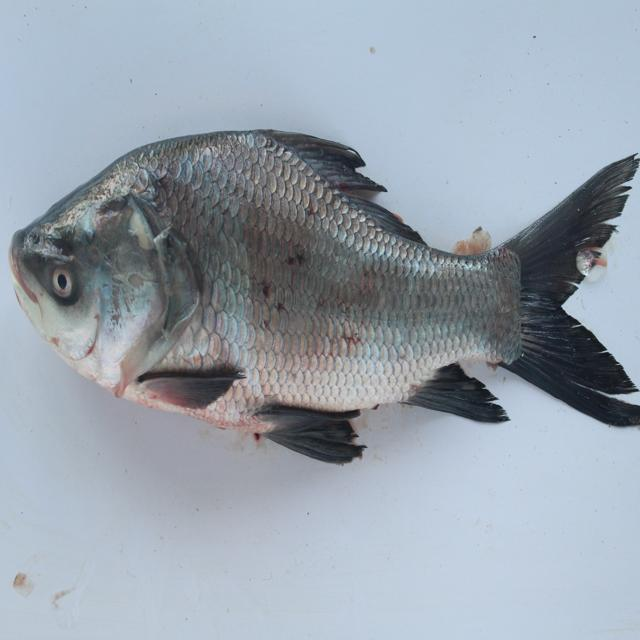Catla: (14, 136, 640, 465)
